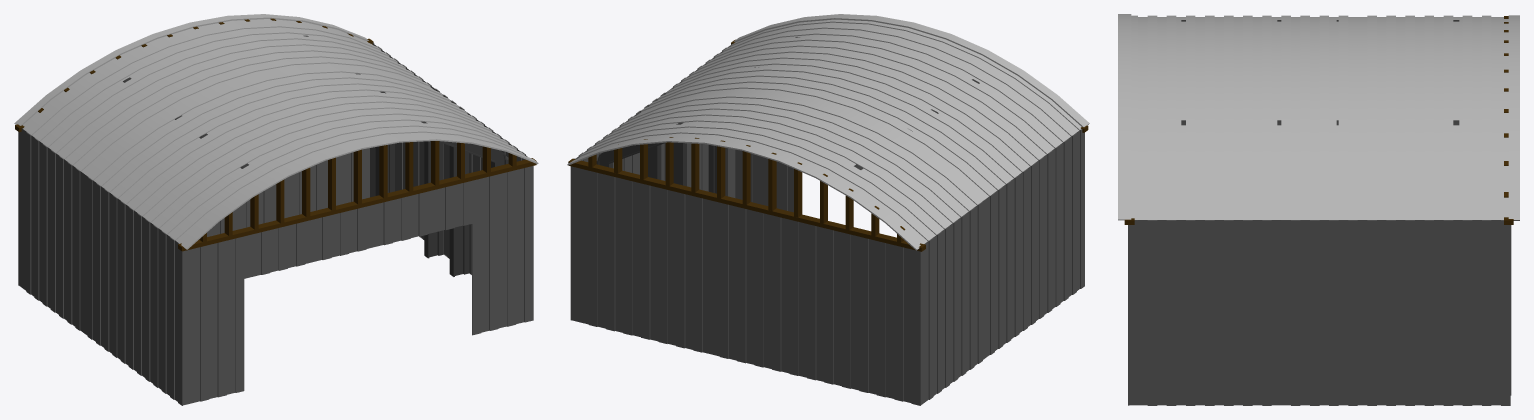
File: Textured_WareHouse_01.fbx
3 renders of one model, left to right at view 1: azimuth 30°, elevation 25°; view 2: azimuth 150°, elevation 25°; view 3: azimuth 270°, elevation 25°, orthographic. The views are drawn at different scales.
Parts seen in each view (by area): view 1: Roof, polySurface2, polySurface5, polySurface6, polySurface4, Roof_Support, pCube1, polySurface8, polySurface9, polySurface7, polySurface1, polySurface10 (+4 smaller); view 2: Roof, polySurface4, polySurface2, Roof_Support1, pCube16, polySurface1, polySurface5, Steel_Beam5, Steel_Beam6, Steel_Beam7; view 3: Roof, polySurface1, polySurface5.
Part boxes in pixels (x1,y1,x2,y2): Roof: (14,14,538,249); polySurface2: (19,128,182,405); polySurface5: (472,166,533,335); polySurface6: (183,236,244,405); polySurface4: (18,132,369,285); Roof_Support: (199,141,516,242); pCube1: (178,158,536,251); polySurface8: (305,206,366,263); polySurface9: (366,191,427,248); polySurface7: (244,221,305,278); polySurface1: (369,42,527,274); polySurface10: (428,181,472,233); Roof: (567,14,1089,250); polySurface4: (571,166,920,405); polySurface2: (921,129,1084,404); Roof_Support1: (588,137,905,242); pCube16: (568,158,925,251); polySurface1: (570,44,734,320); polySurface5: (735,149,793,212); Steel_Beam5: (673,67,938,186); Steel_Beam6: (708,37,979,196); Steel_Beam7: (596,122,863,169); Roof: (1118,14,1519,220); polySurface1: (1129,220,1510,405); polySurface5: (1128,225,1129,405).
Bounding box in the file's own units: 27.5 × 16.18 × 23.21.
